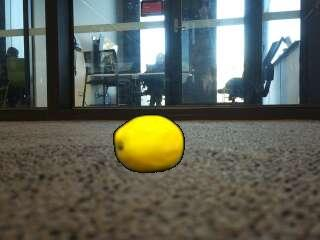lemon: (115, 116, 184, 173)
